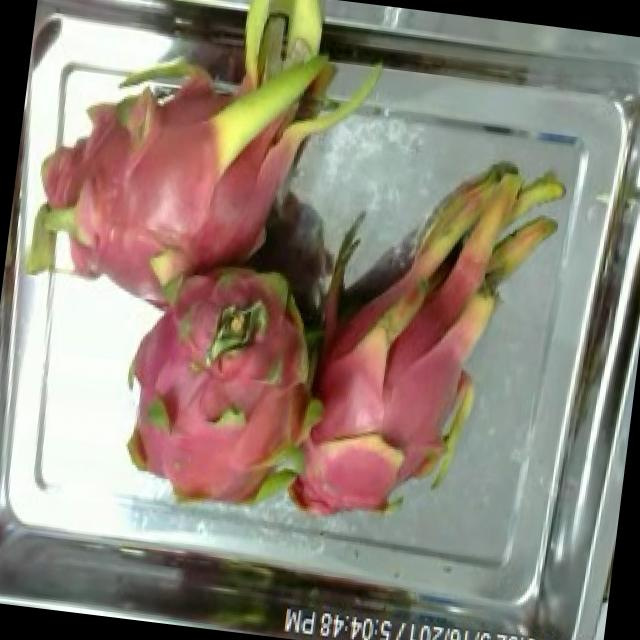Fruit: (270, 408, 420, 546)
